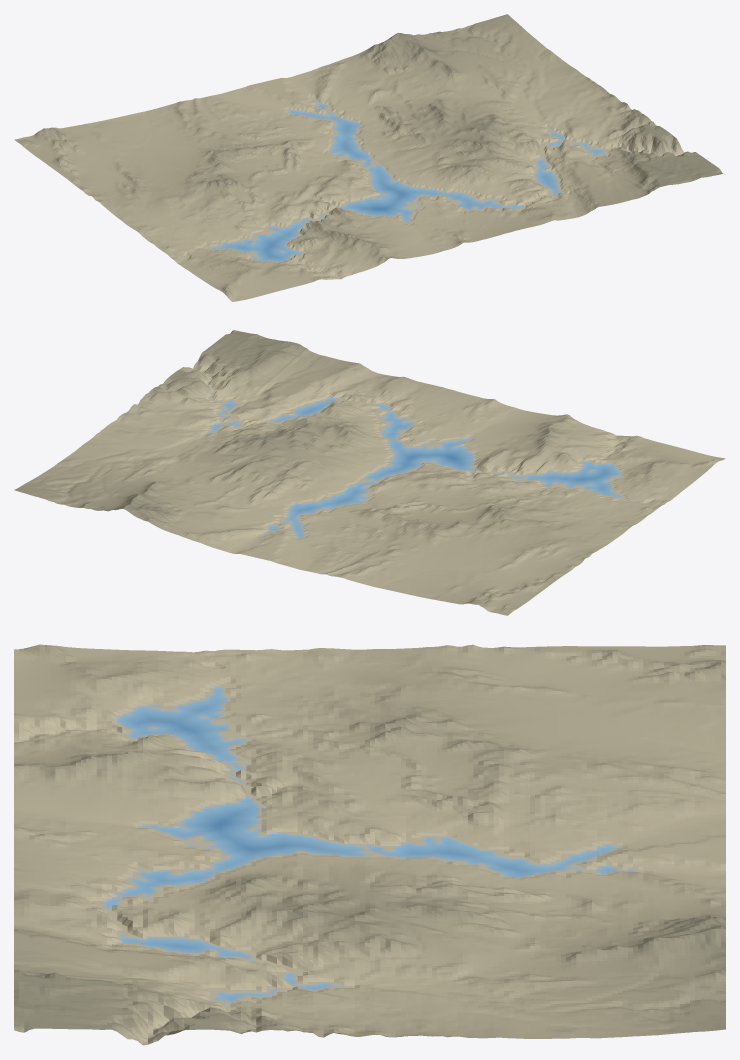
File: lake_mead_nv.glb
3 views of the same model, one above another, from view 1: azimuth 30°, elevation 25°; view 2: azimuth 150°, elevation 25°; view 3: azimuth 270°, elevation 25° (orthographic). The views are drawn at different scales.
Visible parts, largest first — view 1: terrain, water; view 2: terrain, water; view 3: terrain, water.
Part boxes in pixels (bbox=[...]): terrain: bbox=[14, 14, 724, 301]; water: bbox=[211, 104, 603, 261]; terrain: bbox=[14, 330, 725, 615]; water: bbox=[212, 397, 621, 536]; terrain: bbox=[14, 644, 725, 1045]; water: bbox=[107, 688, 612, 999].
Size of the model in its own units: 101236 by 4086 by 77570.
